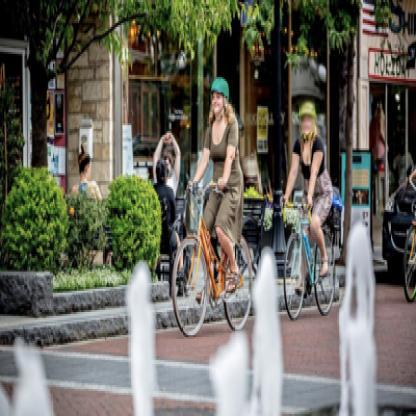Helmet: (205, 78, 233, 112), (296, 102, 317, 140)
